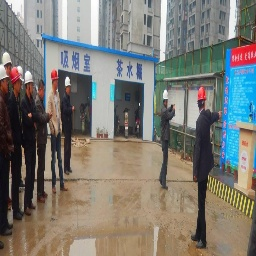helmet: (197, 85, 207, 102), (162, 88, 169, 105)
person: (191, 85, 217, 253), (10, 69, 26, 226), (24, 69, 38, 215), (48, 66, 63, 196), (36, 79, 49, 208), (161, 88, 176, 193), (63, 72, 72, 179)
